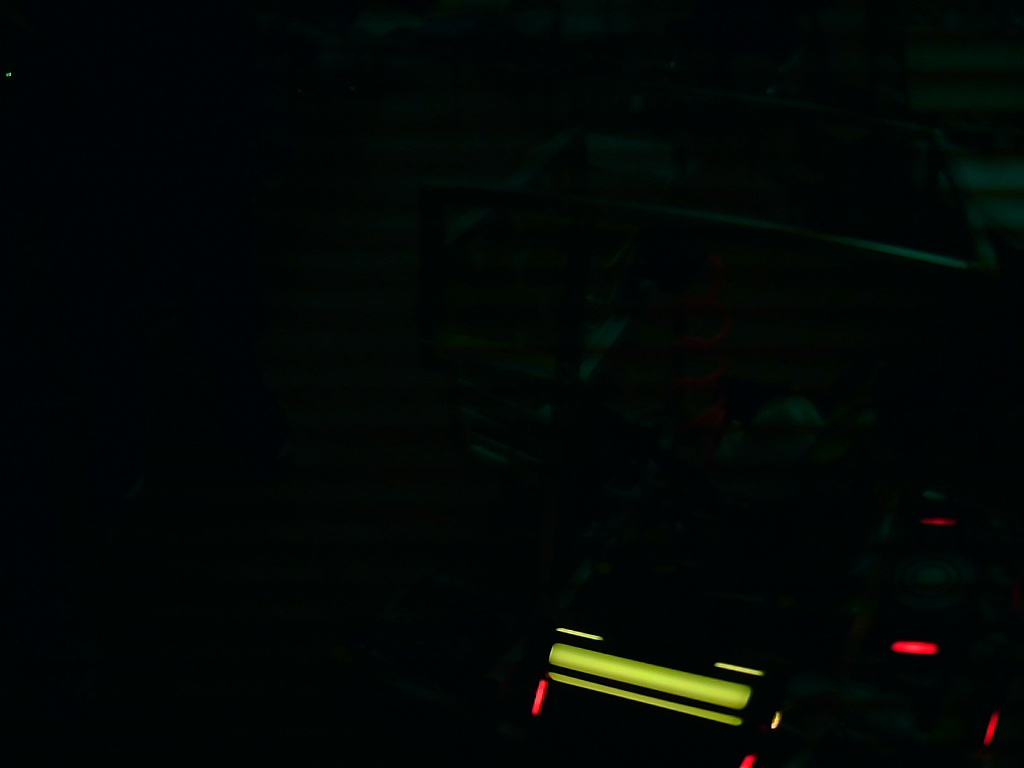lamp: (531, 677, 548, 717), (986, 712, 1002, 745)
